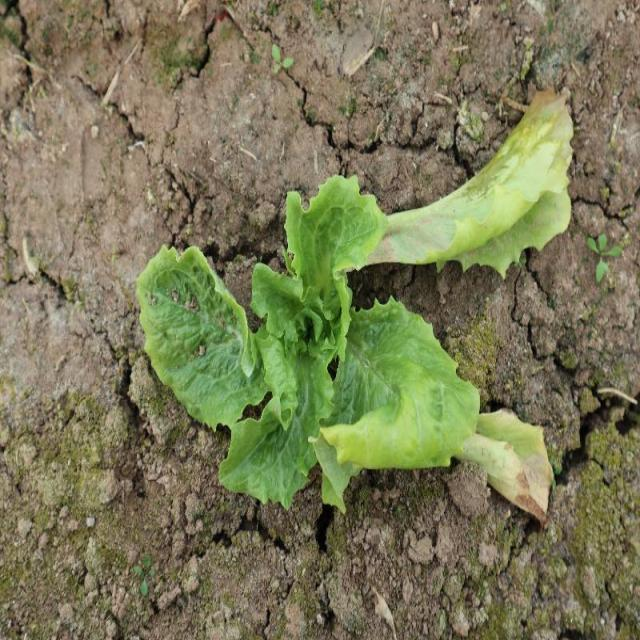crop: (134, 172, 481, 512)
